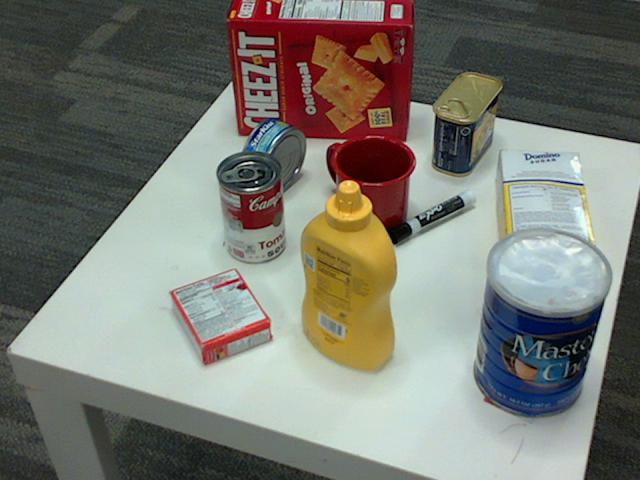cracker_box: (228, 0, 413, 140)
gelatin_box: (166, 267, 268, 365)
large_marker: (387, 193, 476, 243)
master_chef_can: (475, 229, 614, 418)
mug: (326, 133, 415, 236)
mustard_bottle: (300, 182, 396, 370)
potted_meat_can: (431, 74, 499, 177)
sugar_box: (496, 149, 596, 282)
tomato_soup_can: (216, 151, 285, 264)
tuna_fish_can: (238, 117, 305, 195)
